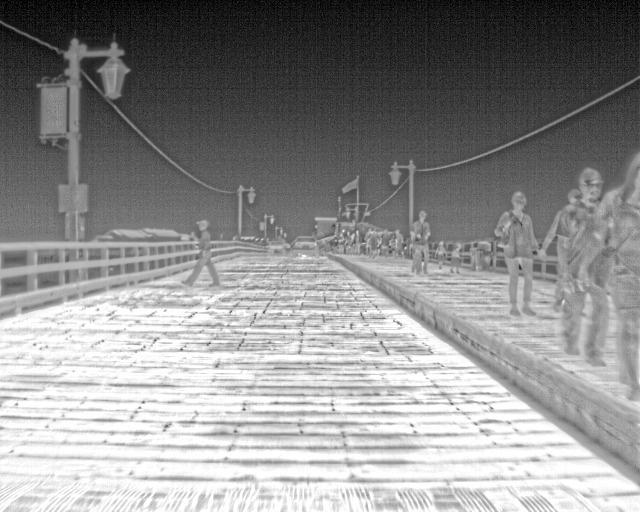bicycle: (288, 233, 318, 256), (267, 237, 291, 255)
empty: (571, 150, 638, 401), (550, 168, 611, 367), (494, 188, 541, 315), (537, 191, 581, 265), (182, 219, 222, 287), (410, 209, 433, 273), (446, 240, 464, 272), (392, 228, 407, 259), (366, 226, 381, 257), (433, 238, 446, 269), (380, 228, 393, 257), (334, 230, 346, 256)
